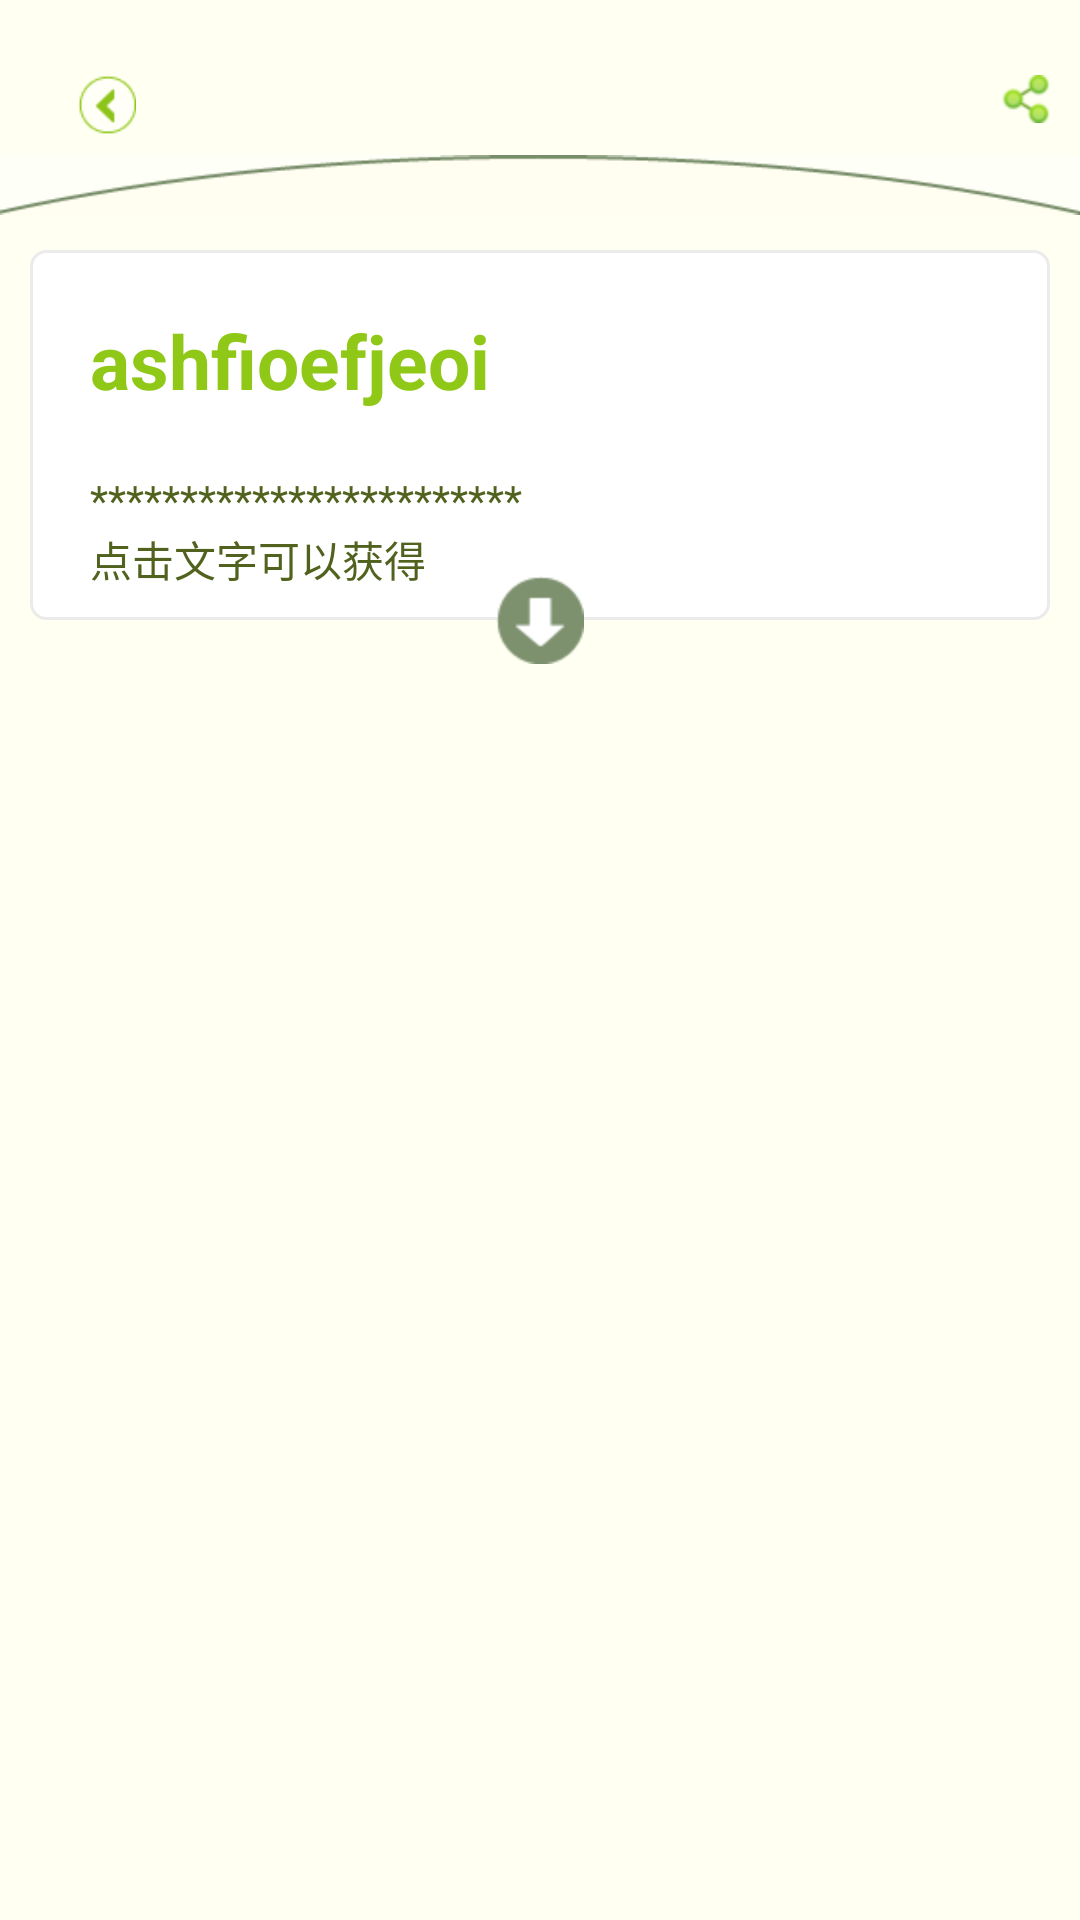

Where to tap for icons on this 1080 × 1920 app screen, as [x,y]:
back: [107,105]
down: [540,620]
share: [1026,99]
